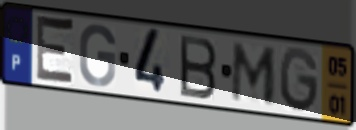4: (131, 25, 171, 99)
B: (177, 32, 220, 102)
E: (34, 11, 77, 90)
G: (277, 45, 321, 115), (77, 22, 118, 89)
M: (229, 40, 279, 107)
